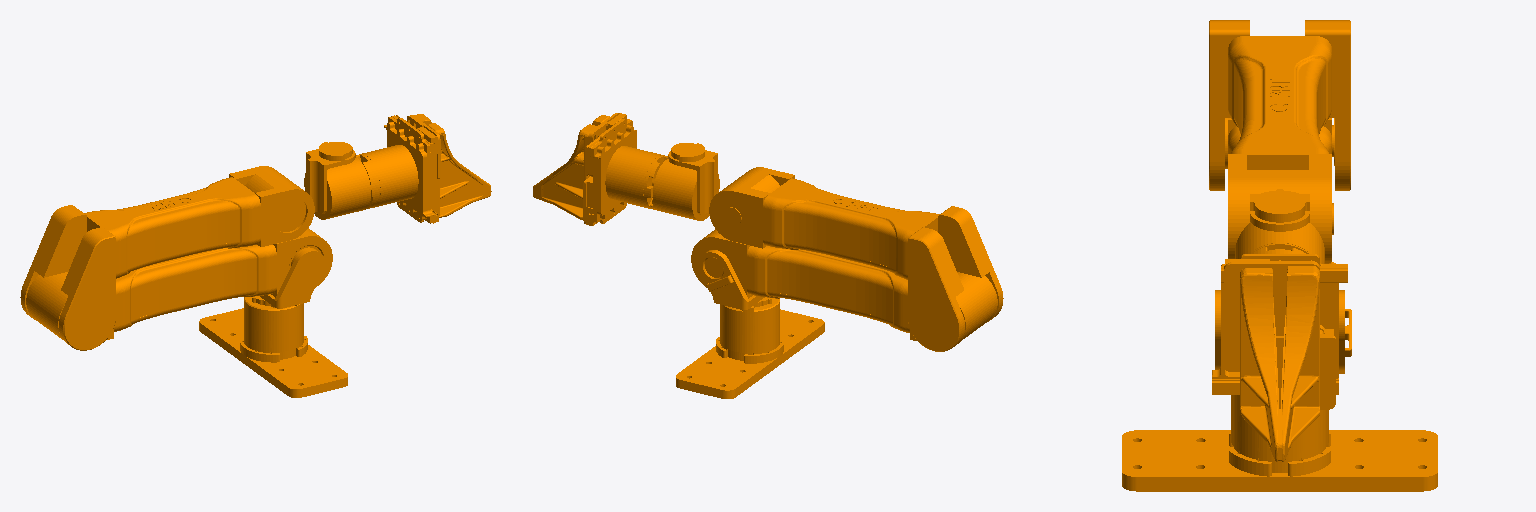
URDF robot description (yam_v0):
<?xml version="1.0" ?>
<!-- Generated using onshape-to-robot -->
<!-- Onshape document_id: d3fe09210e54391ea739d547 -->
<robot name="yam_v0">
  <!-- Link base_link -->
  <link name="base_link">
    <inertial>
      <origin xyz="-7.22812e-05 2.52572e-05 0.0159932" rpy="0 0 0"/>
      <mass value="0.822546"/>
      <inertia ixx="0.00169415" ixy="2.43507e-07" ixz="-1.31515e-07" iyy="0.00066093" iyz="-9.11171e-07" izz="0.00155626"/>
    </inertial>
    <!-- Part base_link_parts -->
    <visual>
      <origin xyz="-7.22812e-05 2.52572e-05 0.0159932" rpy="0 -0 0"/>
      <geometry>
        <mesh filename="package://assets/base_link_visual.stl"/>
      </geometry>
      <material name="base_link_parts_material">
        <color rgba="1 0.6 0 1.0"/>
      </material>
    </visual>
    <collision>
      <origin xyz="-7.22812e-05 2.52572e-05 0.0159932" rpy="0 -0 0"/>
      <geometry>
        <mesh filename="package://assets/base_link_collision.stl"/>
      </geometry>
    </collision>
  </link>
  <!-- Link link_1 -->
  <link name="link_1">
    <inertial>
      <origin xyz="-0.00192861 -0.00795735 0.0208176" rpy="0 0 0"/>
      <mass value="0.12415"/>
      <inertia ixx="5.98038e-05" ixy="-4.5902e-06" ixz="7.411e-06" iyy="0.000169215" iyz="1.68342e-05" izz="0.000156182"/>
    </inertial>
    <!-- Part link_1_parts -->
    <visual>
      <origin xyz="-0.00192861 -0.00795735 0.0208176" rpy="0 -0 -1.5708"/>
      <geometry>
        <mesh filename="package://assets/link_1_visual.stl"/>
      </geometry>
      <material name="link_1_parts_material">
        <color rgba="1 0.6 0 1.0"/>
      </material>
    </visual>
    <collision>
      <origin xyz="-0.00192861 -0.00795735 0.0208176" rpy="0 -0 -1.5708"/>
      <geometry>
        <mesh filename="package://assets/link_1_collision.stl"/>
      </geometry>
    </collision>
  </link>
  <!-- Link link_2 -->
  <link name="link_2">
    <inertial>
      <origin xyz="0.132008 2.10599e-06 0.000293073" rpy="0 0 0"/>
      <mass value="1.24434"/>
      <inertia ixx="0.000683304" ixy="1.99503e-09" ixz="3.68337e-09" iyy="0.0121902" iyz="3.20067e-09" izz="0.0121318"/>
    </inertial>
    <!-- Part link_2_parts -->
    <visual>
      <origin xyz="0.132008 2.10599e-06 0.000293073" rpy="1.5708 1.96007e-14 3.14159"/>
      <geometry>
        <mesh filename="package://assets/link_2_visual.stl"/>
      </geometry>
      <material name="link_2_parts_material">
        <color rgba="1 0.6 0 1.0"/>
      </material>
    </visual>
    <collision>
      <origin xyz="0.132008 2.10599e-06 0.000293073" rpy="1.5708 1.96007e-14 3.14159"/>
      <geometry>
        <mesh filename="package://assets/link_2_collision.stl"/>
      </geometry>
    </collision>
  </link>
  <!-- Link link_3 -->
  <link name="link_3">
    <inertial>
      <origin xyz="-0.121816 -0.054846 -0.000111108" rpy="0 0 0"/>
      <mass value="0.853698"/>
      <inertia ixx="0.000835003" ixy="-0.000536647" ixz="-1.03114e-05" iyy="0.00694973" iyz="-6.38588e-06" izz="0.00696195"/>
    </inertial>
    <!-- Part link_3_parts -->
    <visual>
      <origin xyz="-0.121816 -0.054846 -0.000111108" rpy="-1.5708 -1.96007e-14 -3.14159"/>
      <geometry>
        <mesh filename="package://assets/link_3_visual.stl"/>
      </geometry>
      <material name="link_3_parts_material">
        <color rgba="1 0.6 0 1.0"/>
      </material>
    </visual>
    <collision>
      <origin xyz="-0.121816 -0.054846 -0.000111108" rpy="-1.5708 -1.96007e-14 -3.14159"/>
      <geometry>
        <mesh filename="package://assets/link_3_collision.stl"/>
      </geometry>
    </collision>
  </link>
  <!-- Link link_4 -->
  <link name="link_4">
    <inertial>
      <origin xyz="-0.0569778 -0.0527104 0.000154878" rpy="0 0 0"/>
      <mass value="0.463511"/>
      <inertia ixx="0.000582374" ixy="-0.000250406" ixz="-7.15749e-06" iyy="0.000491129" iyz="-3.22486e-06" izz="0.000744878"/>
    </inertial>
    <!-- Part link_4_parts -->
    <visual>
      <origin xyz="-0.0569778 -0.0527104 0.000154878" rpy="-1.5708 -1.34671e-13 -3.14159"/>
      <geometry>
        <mesh filename="package://assets/link_4_visual.stl"/>
      </geometry>
      <material name="link_4_parts_material">
        <color rgba="1 0.6 0 1.0"/>
      </material>
    </visual>
    <collision>
      <origin xyz="-0.0569778 -0.0527104 0.000154878" rpy="-1.5708 -1.34671e-13 -3.14159"/>
      <geometry>
        <mesh filename="package://assets/link_4_collision.stl"/>
      </geometry>
    </collision>
  </link>
  <!-- Link link_5 -->
  <link name="link_5">
    <inertial>
      <origin xyz="3.64861e-05 0.00025665 0.0353526" rpy="0 0 0"/>
      <mass value="0.350962"/>
      <inertia ixx="0.000197798" ixy="-3.20004e-07" ixz="-2.01757e-07" iyy="0.000172615" iyz="-1.10998e-05" izz="0.000152291"/>
    </inertial>
    <!-- Part link_5_parts -->
    <visual>
      <origin xyz="3.64861e-05 0.00025665 0.0353526" rpy="-3.14159 5.80587e-15 1.5708"/>
      <geometry>
        <mesh filename="package://assets/link_5_visual.stl"/>
      </geometry>
      <material name="link_5_parts_material">
        <color rgba="1 0.6 0 1.0"/>
      </material>
    </visual>
    <collision>
      <origin xyz="3.64861e-05 0.00025665 0.0353526" rpy="-3.14159 5.80587e-15 1.5708"/>
      <geometry>
        <mesh filename="package://assets/link_5_collision.stl"/>
      </geometry>
    </collision>
  </link>
  <!-- Link link_6 -->
  <link name="link_6">
    <inertial>
      <origin xyz="-5.10177e-05 -0.00269952 0.0481778" rpy="0 0 0"/>
      <mass value="0.60366"/>
      <inertia ixx="0.000955866" ixy="1.47274e-05" ixz="-5.44088e-06" iyy="0.000761363" iyz="0.000106418" izz="0.000508596"/>
    </inertial>
    <!-- Part link_6_parts -->
    <visual>
      <origin xyz="-5.10177e-05 -0.00269952 0.0481778" rpy="-1.5708 -1.5708 0"/>
      <geometry>
        <mesh filename="package://assets/link_6_visual.stl"/>
      </geometry>
      <material name="link_6_parts_material">
        <color rgba="1 0.6 0 1.0"/>
      </material>
    </visual>
    <collision>
      <origin xyz="-5.10177e-05 -0.00269952 0.0481778" rpy="-1.5708 -1.5708 0"/>
      <geometry>
        <mesh filename="package://assets/link_6_collision.stl"/>
      </geometry>
    </collision>
  </link>
  <!-- Joint from link_5 to link_6 -->
  <joint name="joint6" type="revolute">
    <origin xyz="-4.0742e-16 0.0353 0.0395" rpy="-1.5708 3.81639e-16 4.68582e-15"/>
    <parent link="link_5"/>
    <child link="link_6"/>
    <axis xyz="0 0 1"/>
    <limit effort="10" velocity="10" lower="-3.141592653589793" upper="3.141592653589793"/>
  </joint>
  <!-- Joint from link_4 to link_5 -->
  <joint name="joint5" type="revolute">
    <origin xyz="-0.0739968 -0.0395003 2.44738e-05" rpy="-1.5708 1.5708 0"/>
    <parent link="link_4"/>
    <child link="link_5"/>
    <axis xyz="0 0 1"/>
    <limit effort="10" velocity="10" lower="-1.5708" upper="1.5708"/>
  </joint>
  <!-- Joint from link_3 to link_4 -->
  <joint name="joint4" type="revolute">
    <origin xyz="-0.245 -0.0600003 -1.9984e-15" rpy="-5.65471e-31 -1.1507e-13 2.94252e-43"/>
    <parent link="link_3"/>
    <child link="link_4"/>
    <axis xyz="0 0 1"/>
    <limit effort="10" velocity="10" lower="-1.5708" upper="1.5708"/>
  </joint>
  <!-- Joint from link_2 to link_3 -->
  <joint name="joint3" type="revolute">
    <origin xyz="0.264 0 6.77626e-21" rpy="-3.14159 1.26218e-29 7.88861e-31"/>
    <parent link="link_2"/>
    <child link="link_3"/>
    <axis xyz="0 0 1"/>
    <limit effort="10" velocity="10" lower="0" upper="3.66519"/>
  </joint>
  <!-- Joint from link_1 to link_2 -->
  <joint name="joint2" type="revolute">
    <origin xyz="2.5e-05 -0.02 0.0409" rpy="1.5708 -1.98004e-28 1.5708"/>
    <parent link="link_1"/>
    <child link="link_2"/>
    <axis xyz="0 0 1"/>
    <limit effort="10" velocity="10" lower="0" upper="3.14159"/>
  </joint>
  <!-- Joint from base_link to link_1 -->
  <joint name="joint1" type="revolute">
    <origin xyz="-3.55271e-18 -1.05495e-18 0.0631" rpy="0 -0 1.5708"/>
    <parent link="base_link"/>
    <child link="link_1"/>
    <axis xyz="0 0 1"/>
    <limit effort="10" velocity="10" lower="-2.61799" upper="3.05433"/>
  </joint>
</robot>

--- Render facts (derived) ---
3 views of the same robot in one strip: view 1: azimuth 30°, elevation 25°; view 2: azimuth 150°, elevation 25°; view 3: azimuth 270°, elevation 25° (orthographic).
Model yam_v0 with 7 links and 6 joints (6 revolute), rooted at base_link, posed every joint at zero.
Links seen in each view (by area): view 1: link_3, link_2, link_6, base_link, link_5, link_1; view 2: link_3, link_2, link_6, base_link, link_5, link_1; view 3: link_3, link_6, base_link, link_5, link_1, link_2.
Boxes of the visible links, <box> form: link_3: <box>20,166,314,350</box>; link_2: <box>26,228,332,339</box>; link_6: <box>356,114,491,223</box>; base_link: <box>199,296,347,397</box>; link_5: <box>304,142,370,219</box>; link_1: <box>260,247,324,308</box>; link_3: <box>709,167,1003,351</box>; link_2: <box>691,229,997,341</box>; link_6: <box>533,113,667,225</box>; base_link: <box>676,297,824,398</box>; link_5: <box>652,143,719,220</box>; link_1: <box>699,250,764,309</box>; link_3: <box>1209,20,1350,263</box>; link_6: <box>1212,247,1347,461</box>; base_link: <box>1122,395,1437,491</box>; link_5: <box>1235,189,1324,263</box>; link_1: <box>1215,290,1351,373</box>; link_2: <box>1228,118,1333,156</box>.
Size in the robot's own frame: 0.5326 by 0.2 by 0.2247 metres.
6 mesh visuals loaded from 7 distinct referenced files (6 binary STL); not drawn: 1 (reference not matched to a file when rendering).